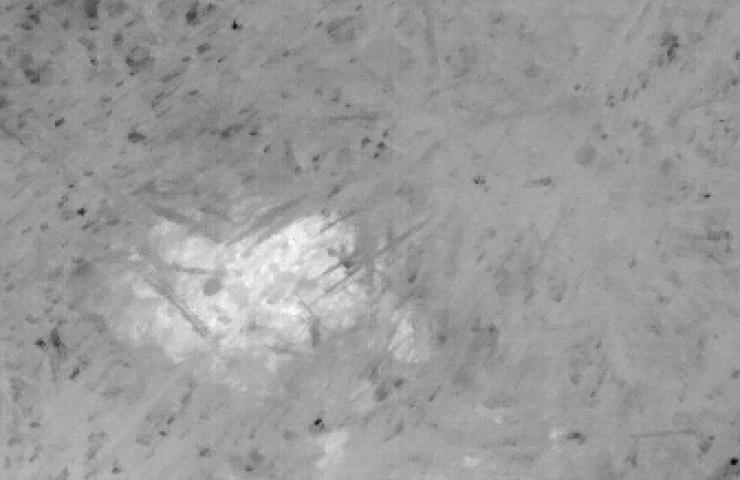landmines: (152, 214, 366, 365)
